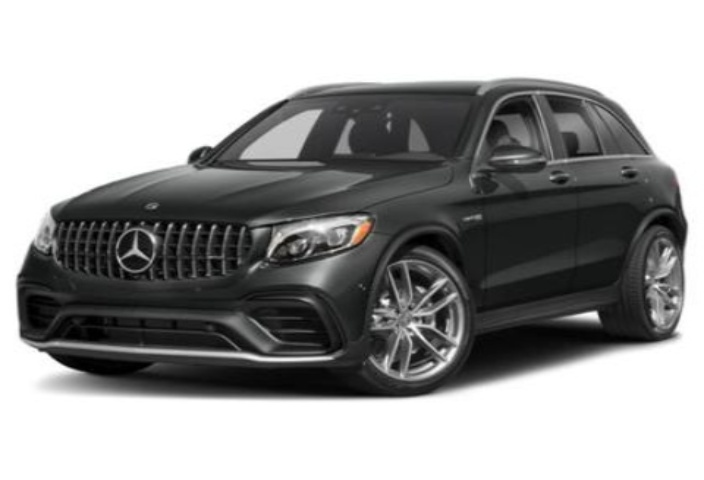camper: (9, 68, 693, 403)
